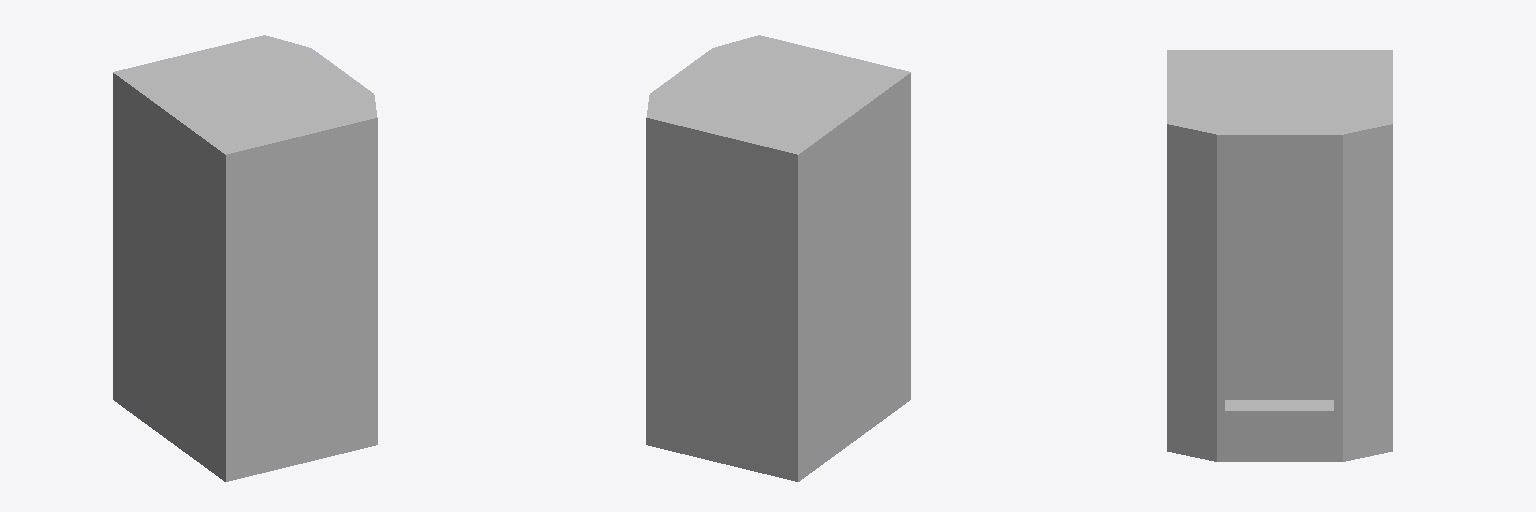
The model's file is Vend1.obj.
The picture shows the model from 3 angles: view 1: azimuth 30°, elevation 25°; view 2: azimuth 150°, elevation 25°; view 3: azimuth 270°, elevation 25°; orthographic projection.
Parts seen in each view (by area): view 1: Vend1; view 2: Vend1; view 3: Vend1.
Boxes of the visible parts, x1,y1,x2,y2 form: Vend1: [113, 35, 377, 481]; Vend1: [646, 35, 910, 481]; Vend1: [1167, 50, 1392, 461].
Size of the model in its own units: 64 by 115 by 72.